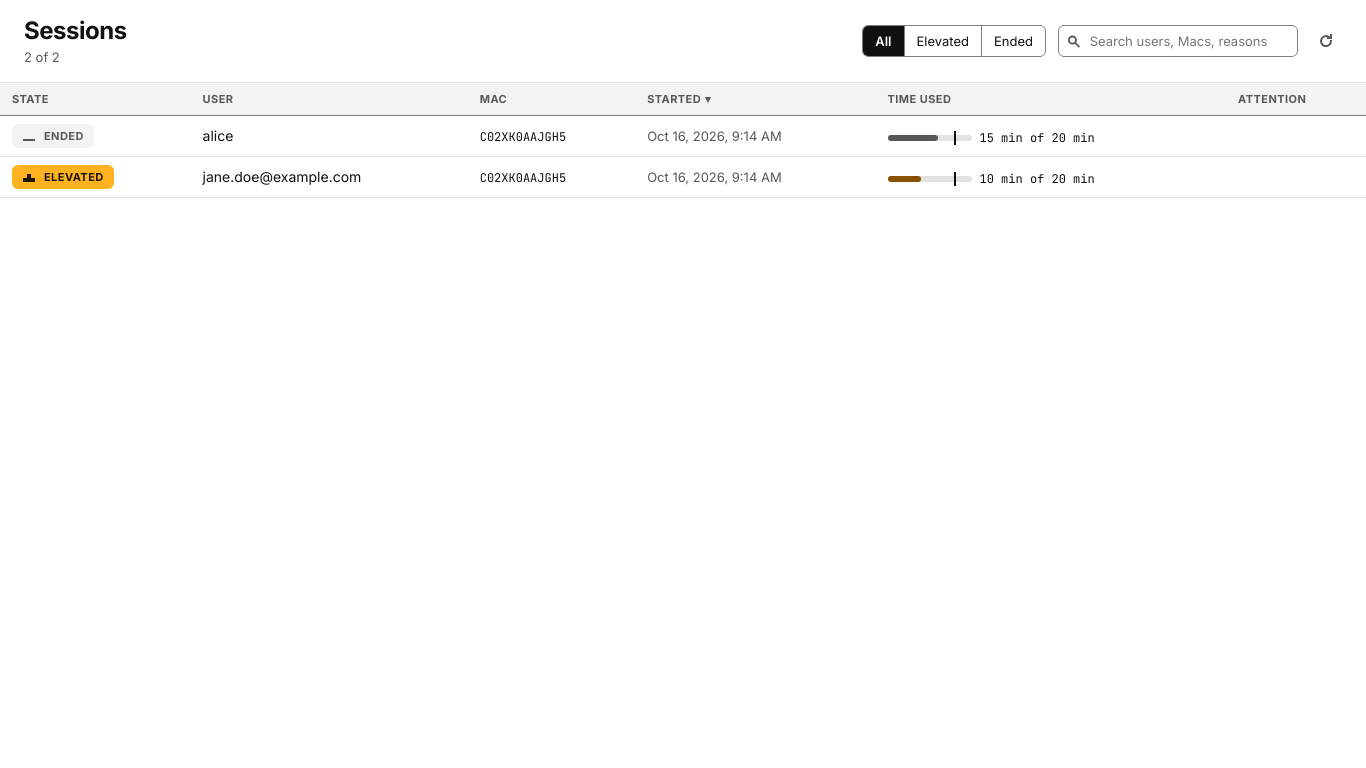
Sessions › revokes an active session after confirmation
Click the text "jane.doe@example.com": point(282, 176) [202, 168, 361, 185]
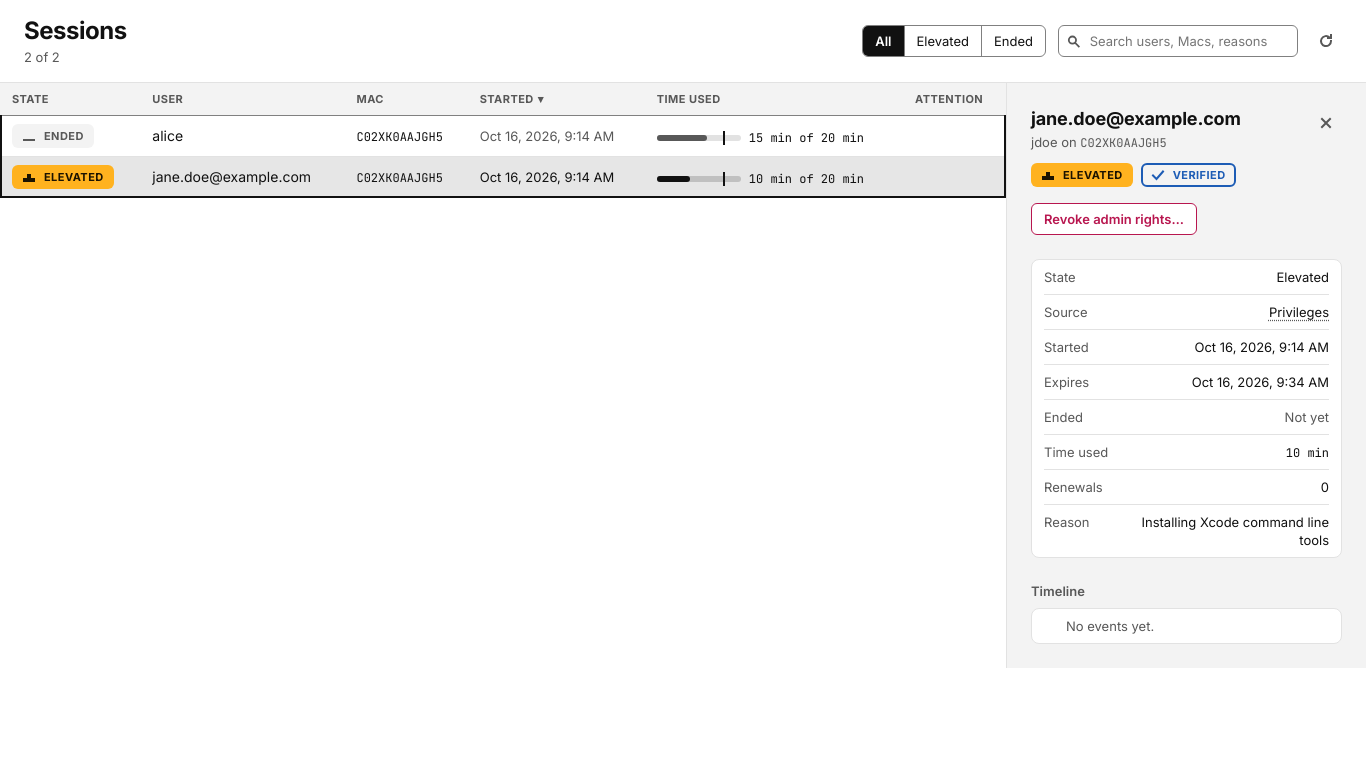
Click the button "Revoke admin rights…": point(1114, 219) [1031, 203, 1197, 235]
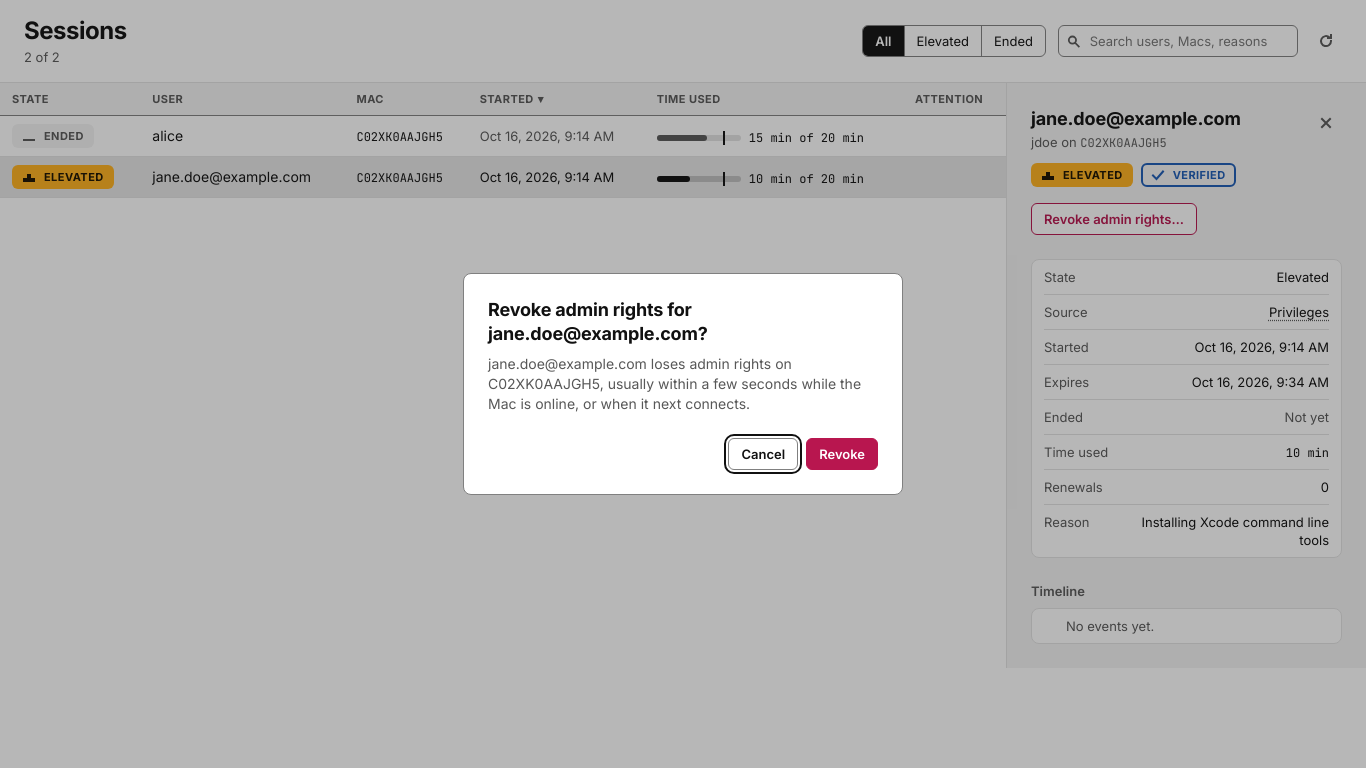
Click the button "Revoke": point(842, 454) [806, 438, 878, 470]
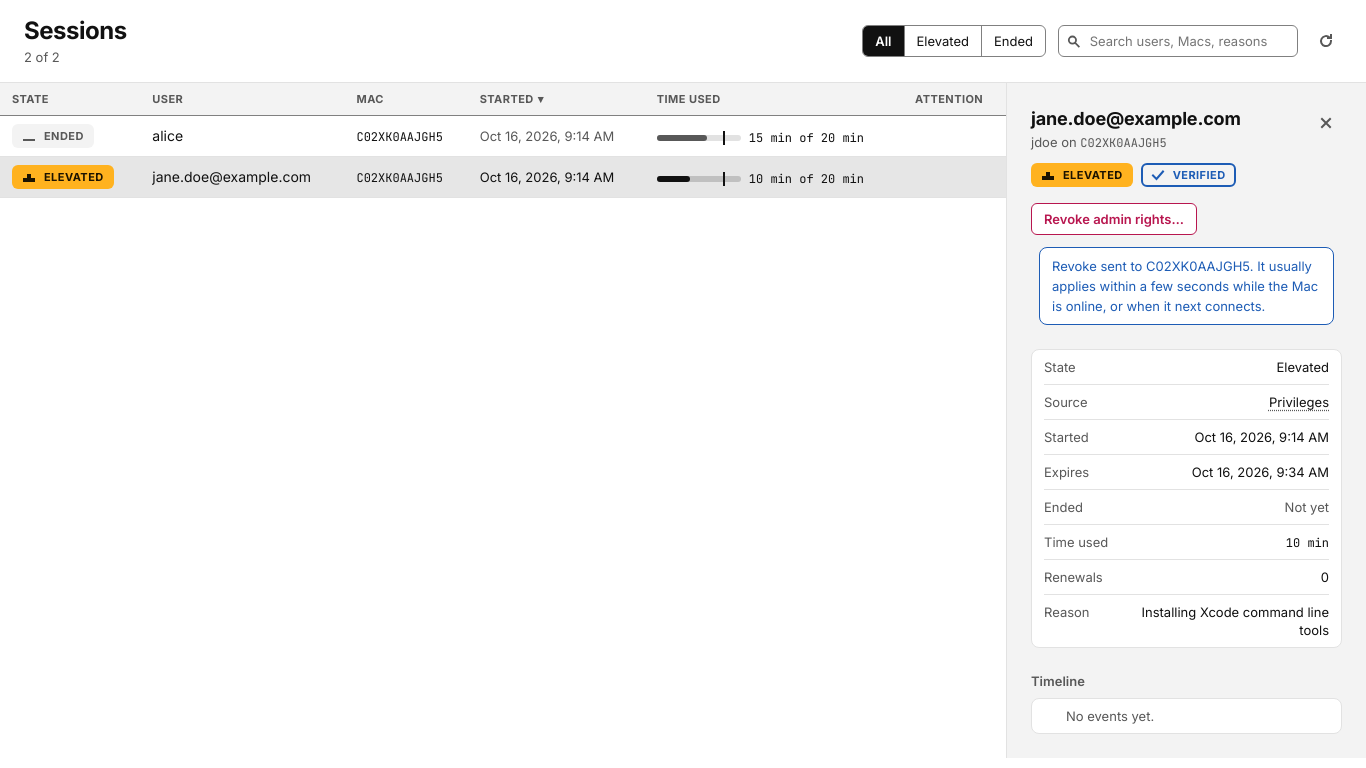
Check: the message shows "Revoke sent", box [1052, 258, 1318, 314]
